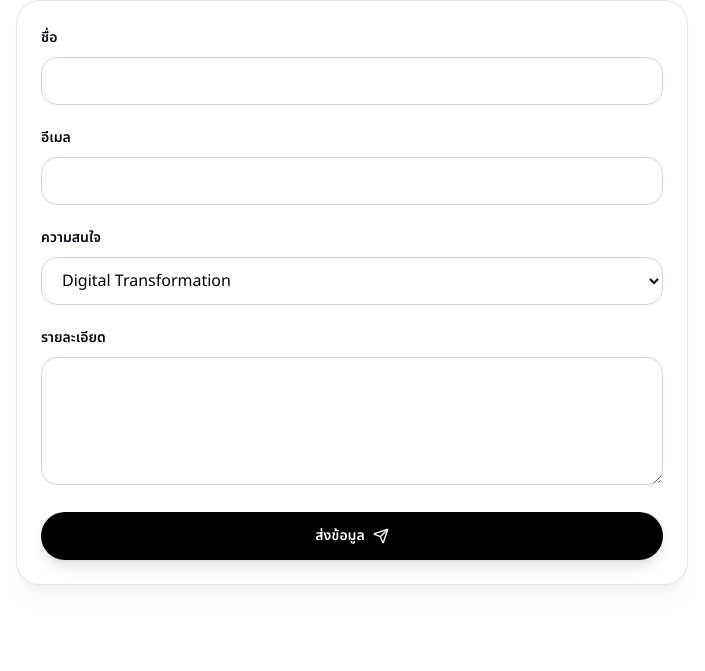
ContactForm › submits valid lead information
The image size is (705, 671).
In the field labelled "ชื่อ": (352, 81) [41,57,663,105], type "Orbit Team"
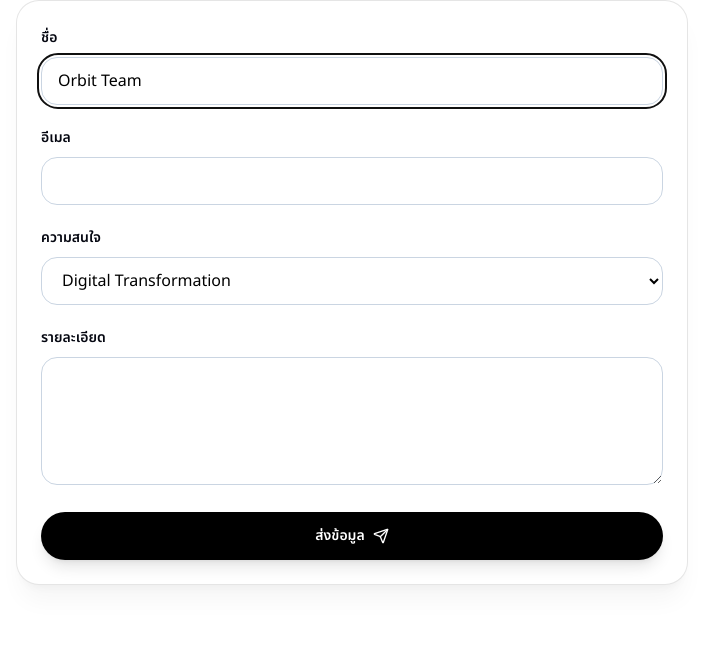
In the field labelled "อีเมล": (352, 181) [41,157,663,205], type "team@example.com"
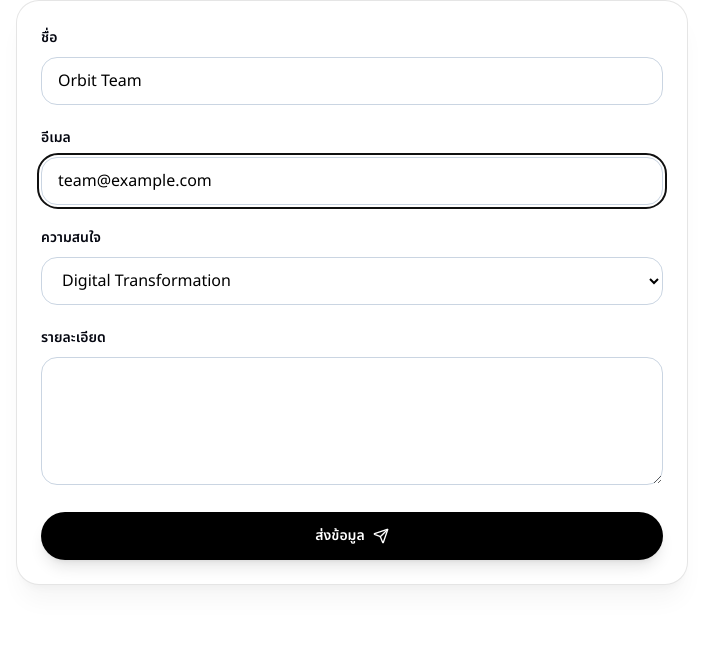
In the text box labelled "รายละเอียด": (352, 421) [41,357,663,485], type "We need a responsive company profile."
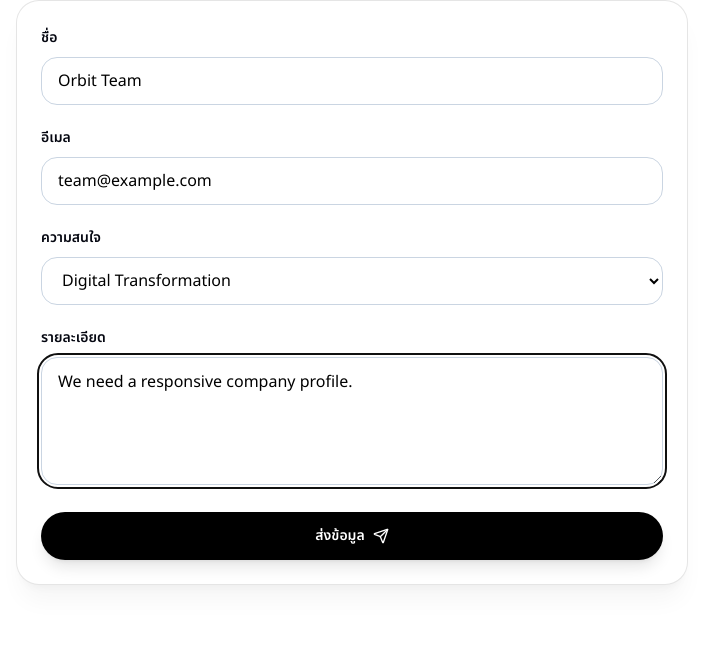
Click the button "ส่งข้อมูล": (352, 536) [41,512,663,560]
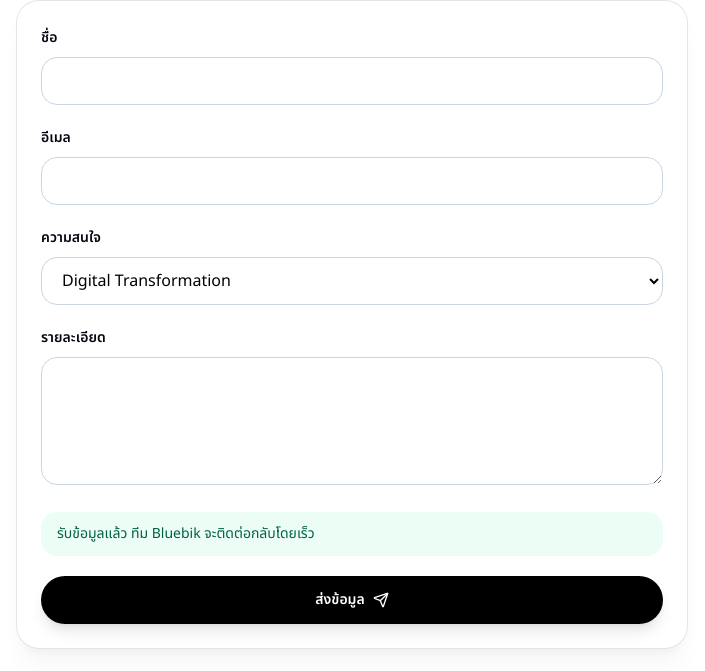
Now the message reads "รับข้อมูลแล้ว ทีม Bluebik จะติดต่อกลับโดยเร็ว", box [57,523,315,544]
